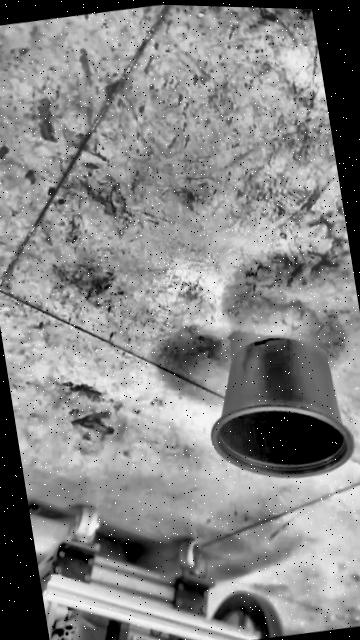pot: (197, 326, 357, 491)
